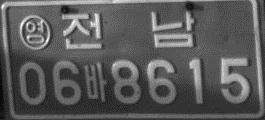0: (18, 61, 46, 107)
1: (181, 57, 212, 106)
5: (219, 56, 252, 105)
6: (145, 58, 178, 105), (51, 59, 82, 107)
8: (110, 58, 141, 105)
바: (82, 60, 107, 101)
영: (18, 14, 51, 50)
전남_D: (61, 10, 195, 49)
